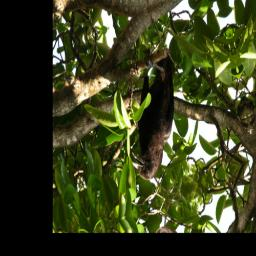Crow: (110, 45, 195, 189)
